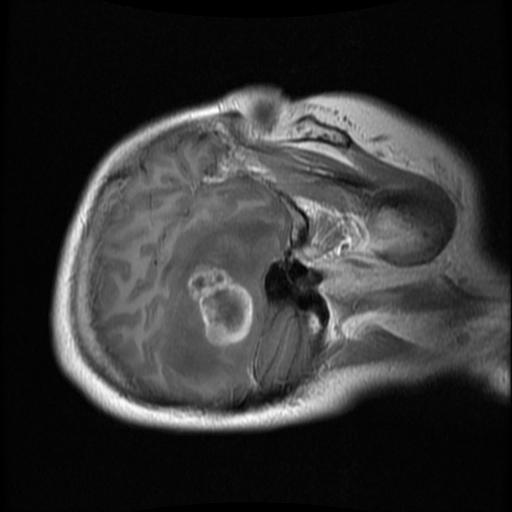glioma: (185, 263, 252, 347)
